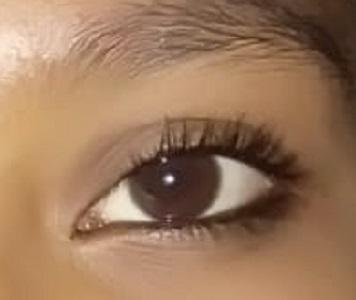open: (30, 100, 333, 274)
